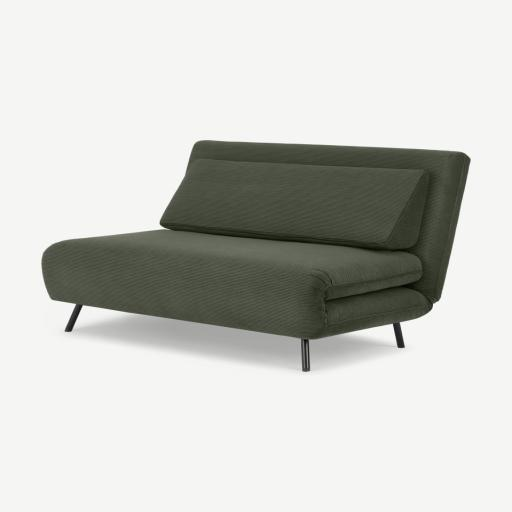back_cushion: (161, 157, 428, 250)
legs: (65, 305, 82, 331), (301, 339, 310, 371), (393, 323, 404, 347)
one-seater: (0, 0, 511, 512)
seat_cushion: (42, 230, 421, 339)
